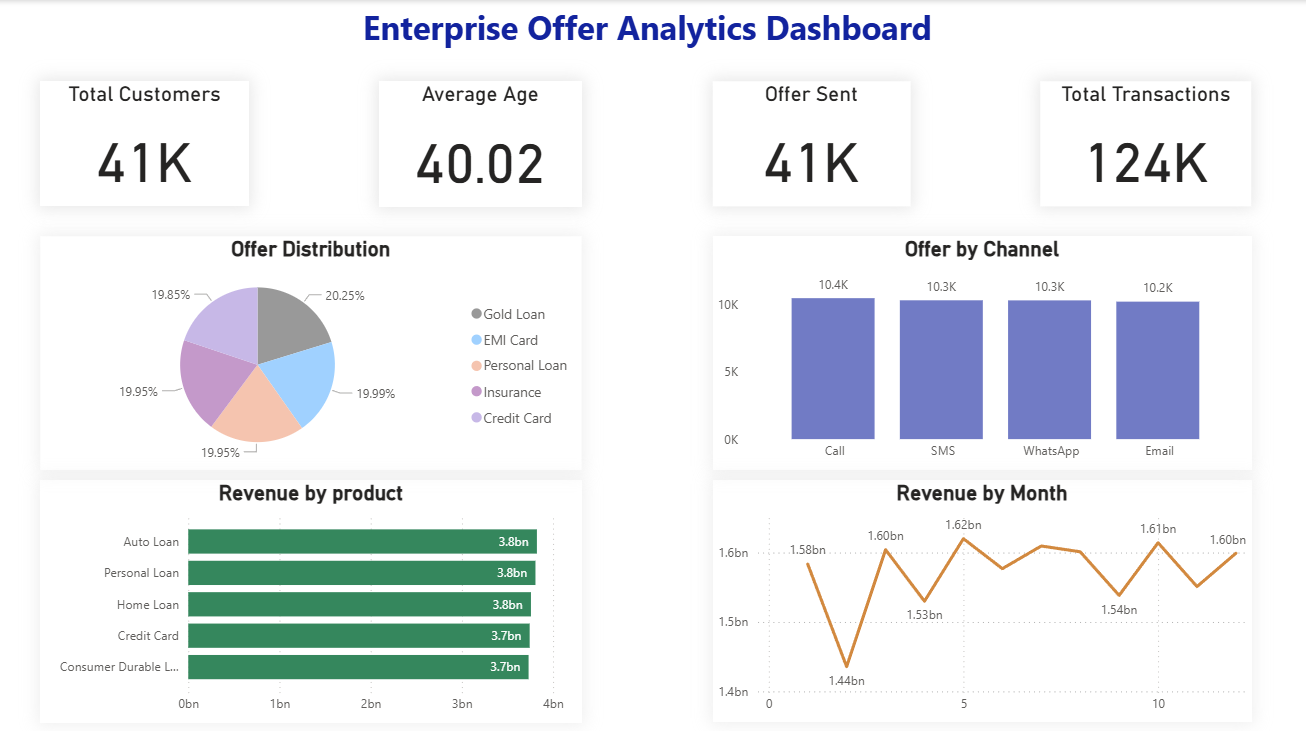

This screenshot's page, from the dashboard's own definition file:
{"tool":"powerbi","page":{"name":"Executive Overview","canvas":[1280,720],"ordinal":0},"visuals":[{"type":"textbox","box":[351.4,0,577.2,56.3],"z":0},{"type":"card","title":"Total Customers","fields":{"Values":["Sum(Customer_Summary.Total_Customers)"]},"box":[40.4,79.2,204.2,122.3],"z":1000},{"type":"card","title":"Average Age","fields":{"Values":["Sum(Customer_Summary.Average_Age)"]},"box":[372.1,79.2,198.1,123.5],"z":2000},{"type":"card","title":"Offer Sent","fields":{"Values":["Sum(Offer_Summary.Offers_Sent)"]},"box":[697.8,79.2,193.2,122.3],"z":3000},{"type":"card","title":"Total Transactions","fields":{"Values":["Sum(Transaction_Summary.Total_Transactions)"]},"box":[1018.6,79.2,206.7,122.3],"z":4000},{"type":"pieChart","title":"Offer Distribution","fields":{"Category":["Offer_Summary.offer_type"],"Y":["Sum(Offer_Summary.Offers_Sent)"]},"box":[40.4,231.1,529.5,228.7],"z":5000},{"type":"columnChart","title":"Offer by Channel","fields":{"Category":["Channel_Summary.channel"],"Y":["Sum(Channel_Summary.Offers)"]},"box":[698.2,231.1,527,228.7],"z":6000},{"type":"clusteredBarChart","title":"Revenue by product","fields":{"Category":["Product_Summary.product"],"Y":["Sum(Product_Summary.Revenue)"]},"box":[40.4,469.8,529.5,237.2],"z":7000},{"type":"lineChart","title":"Revenue by Month","fields":{"Category":["Monthly_Transactions.Month"],"Y":["Sum(Monthly_Transactions.Revenue)"]},"box":[698,470,527,237],"z":8000}]}

Visuals, with their boxes in screenshot pixels (x1, y1, x2, y2), scaled from the page's 1280x720 canvas onto the 1306x731 screenshot:
textbox: region(359, 0, 947, 57)
"Total Customers" card: region(41, 80, 250, 205)
"Average Age" card: region(380, 80, 582, 206)
"Offer Sent" card: region(712, 80, 909, 205)
"Total Transactions" card: region(1039, 80, 1250, 205)
"Offer Distribution" pieChart: region(41, 235, 581, 467)
"Offer by Channel" columnChart: region(712, 235, 1250, 467)
"Revenue by product" clusteredBarChart: region(41, 477, 581, 718)
"Revenue by Month" lineChart: region(712, 477, 1250, 718)
